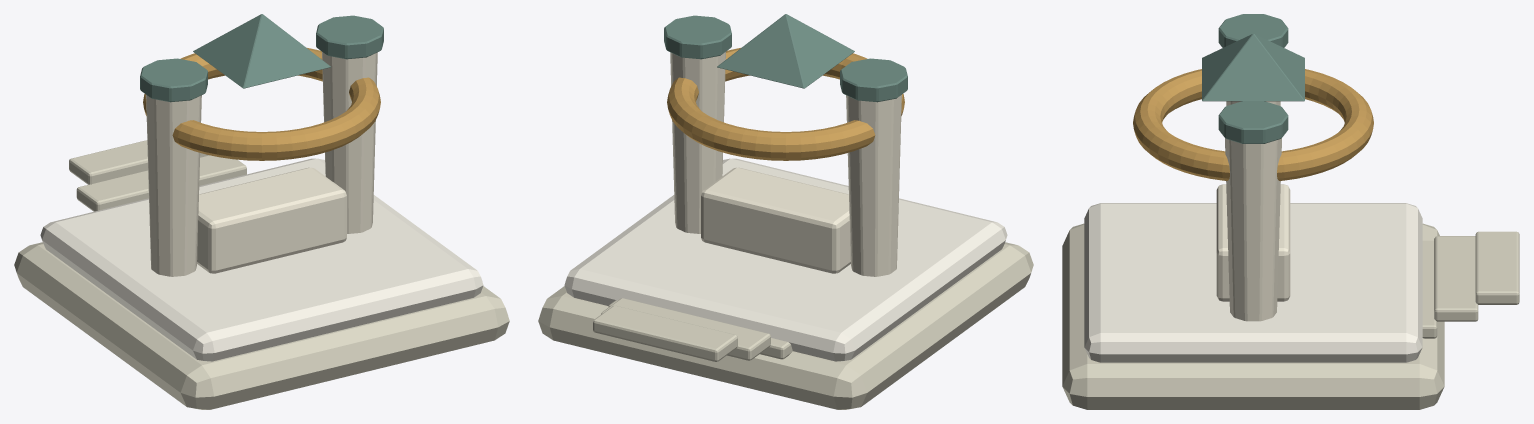
The model's file is gate_domain.glb.
3 views of the same model, side by side, from view 1: azimuth 30°, elevation 25°; view 2: azimuth 150°, elevation 25°; view 3: azimuth 270°, elevation 25° (orthographic).
Parts seen in each view (by area): view 1: gate_domain; view 2: gate_domain; view 3: gate_domain.
Boxes of the visible parts, x1,y1,x2,y2 form: gate_domain: (14, 14, 509, 409); gate_domain: (538, 14, 1033, 409); gate_domain: (1062, 14, 1519, 409).
Size of the model in its own units: 2.6 by 2.29 by 3.11.
